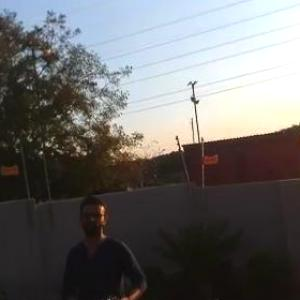follow: (54, 189, 151, 299)
